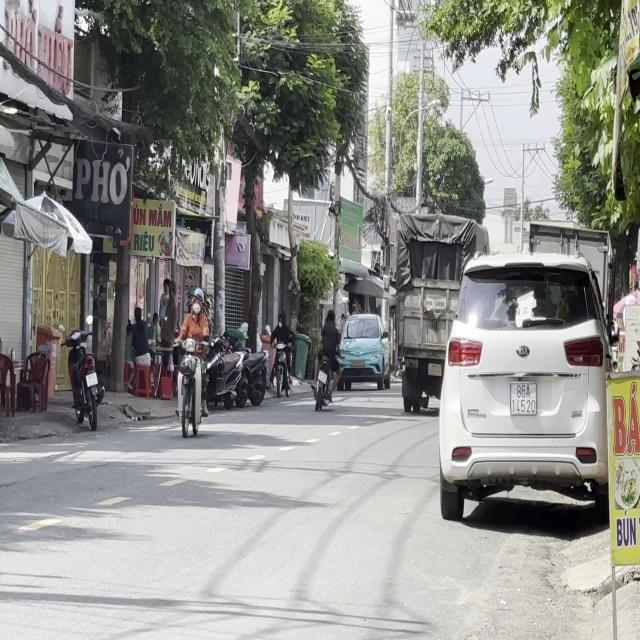helmet: (192, 288, 204, 316)
licenseplate: (171, 284, 213, 442)
